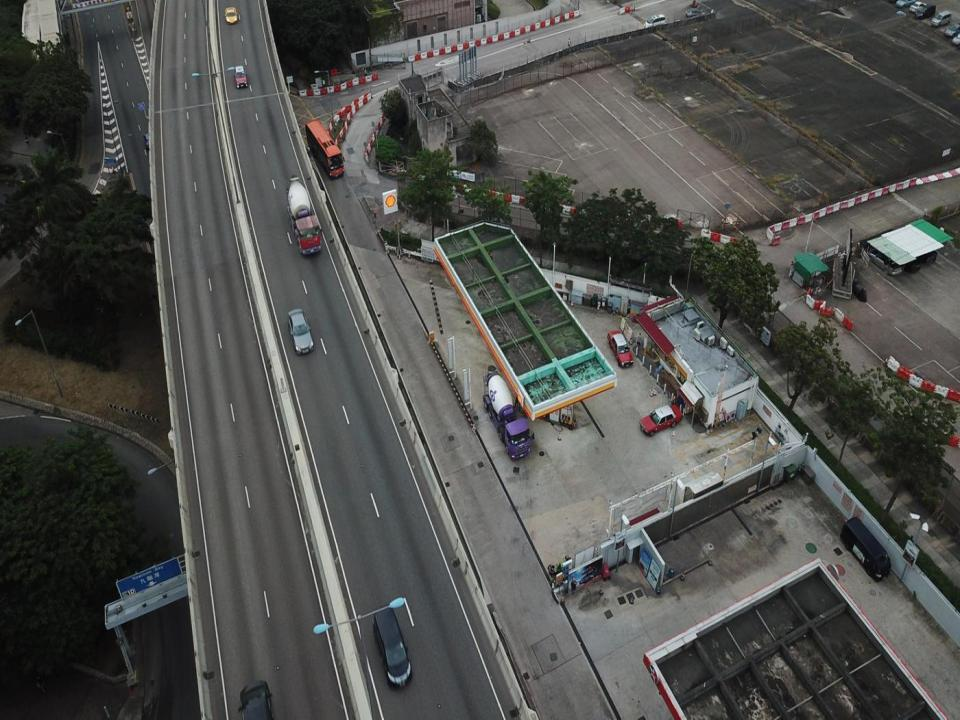bus: (305, 113, 347, 178)
car: (372, 604, 412, 688), (638, 404, 682, 437), (286, 305, 312, 356), (606, 329, 634, 369), (643, 14, 667, 29), (233, 66, 249, 88), (914, 4, 937, 17), (223, 6, 238, 25), (685, 7, 705, 21), (945, 21, 959, 39), (909, 1, 926, 11), (952, 33, 960, 46)
truck: (482, 368, 531, 461)
van: (840, 513, 891, 583), (932, 11, 952, 27)
